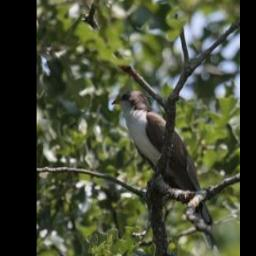Cuckoo: (110, 89, 227, 252)
